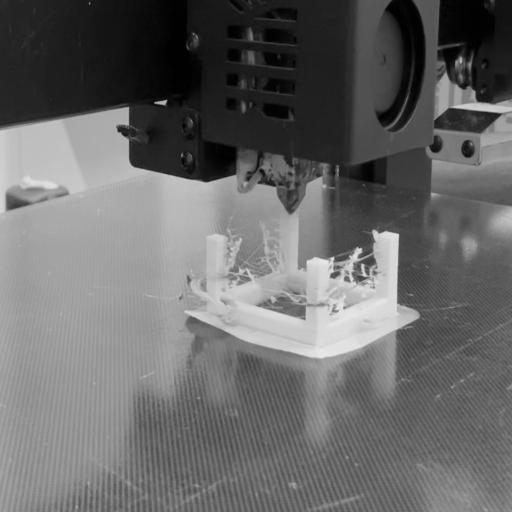spaghetti_and_stringing: (189, 216, 394, 315)
warp: (173, 309, 287, 370)
